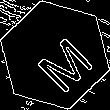M_NW: (20, 21, 90, 89)
